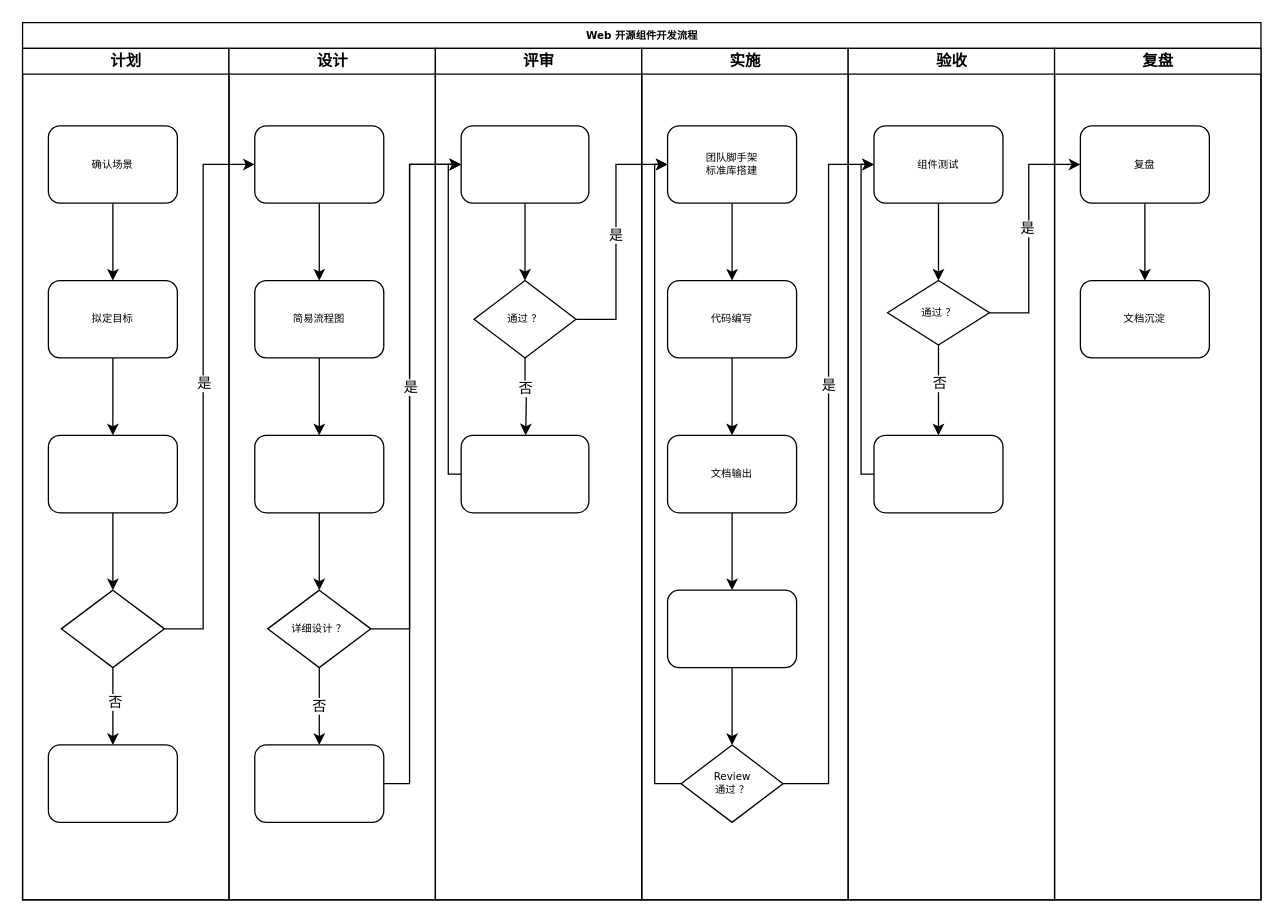
Image size: 1284x922. Some labels were removed from this diagram. Each missing label, with the centre of its shape:
Bug 修复: pixel 938 473
可行 ？: pixel 112 628
场景分析: pixel 318 163
完善设计: pixel 524 473
技术预研: pixel 112 473
概要设计: pixel 318 473
结束: pixel 112 783
自测: pixel 731 628
设计内审: pixel 524 163
详细设计: pixel 318 783
